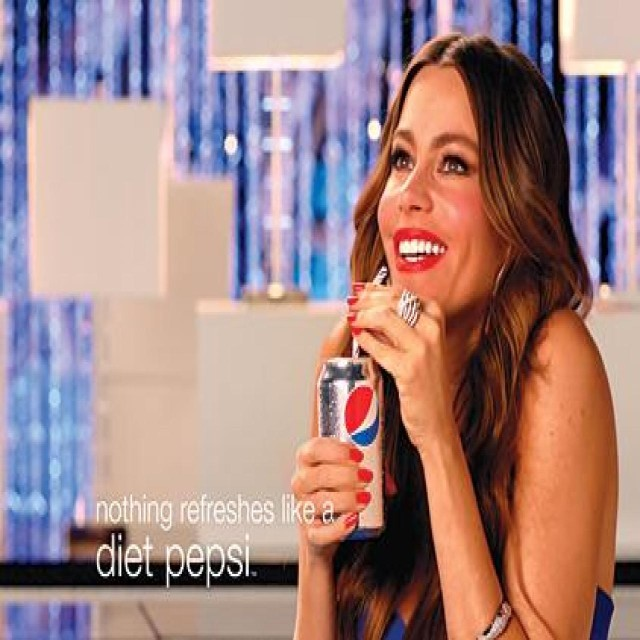pepsi: (339, 380, 385, 445)
